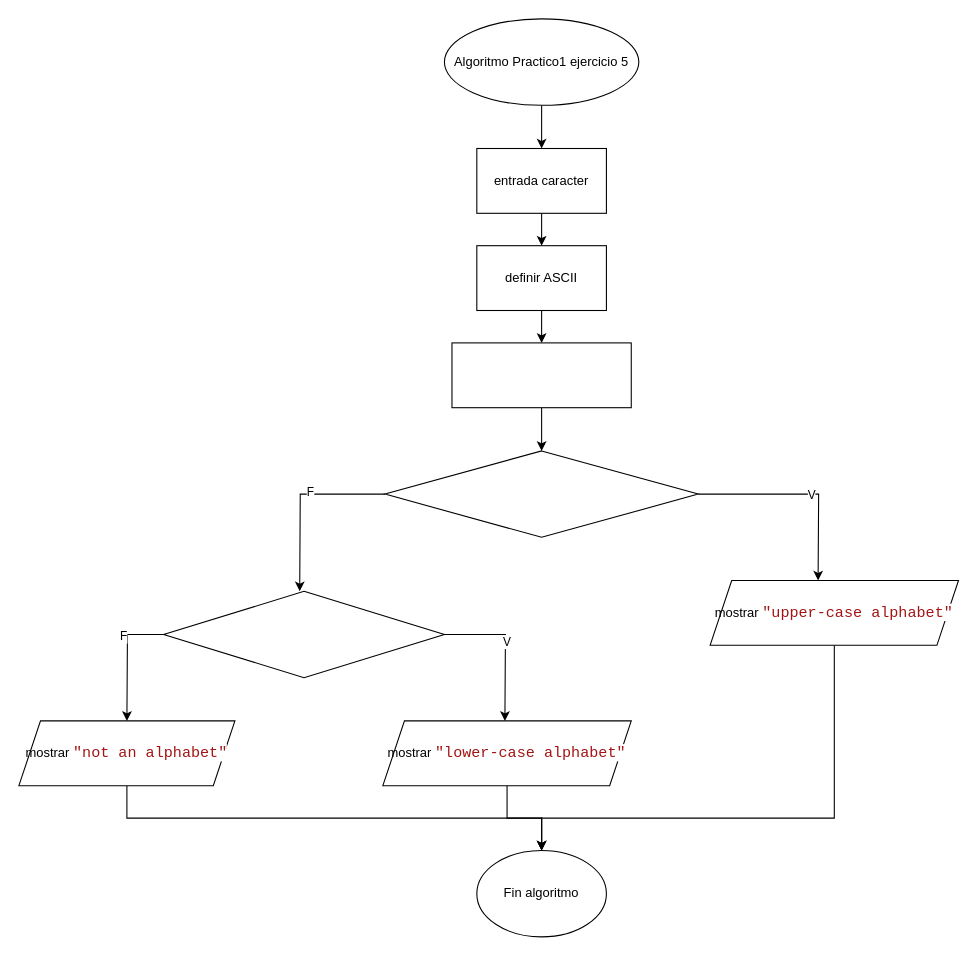
This 977x956 diagram has some shape labels left out. Here are the shapes that lost their labels. From the top down, the centre of each, then its label:
At pixel 541 375: "ASCII = entero del caracter".
At pixel 541 493: "ASCII >= 65 && ASCII <= 90".
At pixel 303 634: "ASCII >= 97 && ASCII <= 122".
